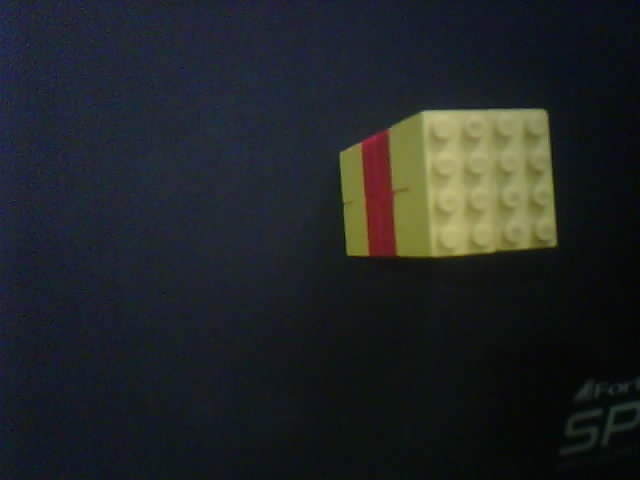lego: (336, 106, 559, 261)
